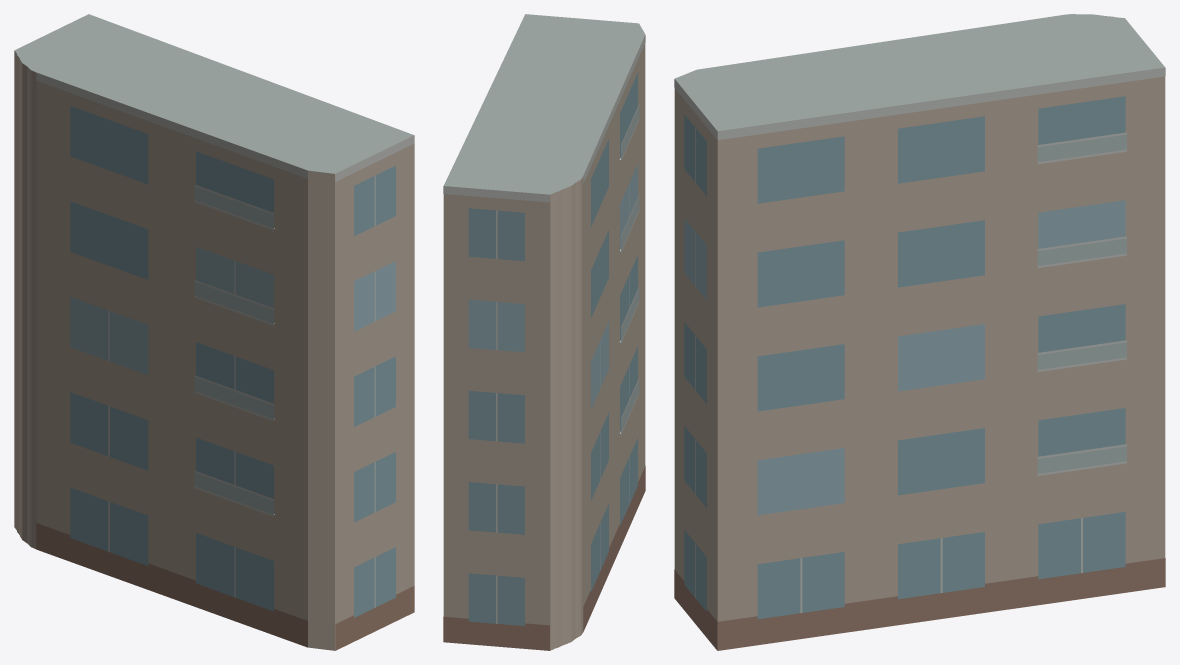
File: survey-upis-32969944.glb
The picture shows the model from 3 angles, left to right: view 1: azimuth 30°, elevation 25°; view 2: azimuth 150°, elevation 25°; view 3: azimuth 270°, elevation 25°; orthographic projection. The views are drawn at different scales.
Visible parts, largest first — view 1: survey-upis-32969944.tmp; view 2: survey-upis-32969944.tmp; view 3: survey-upis-32969944.tmp.
Boxes of the visible parts, x1=… form: survey-upis-32969944.tmp: x1=14, y1=14, x2=414, y2=650; survey-upis-32969944.tmp: x1=443, y1=14, x2=645, y2=650; survey-upis-32969944.tmp: x1=674, y1=14, x2=1165, y2=650.
Bounding box in the file's own units: 6.89 × 14.2 × 12.17.
